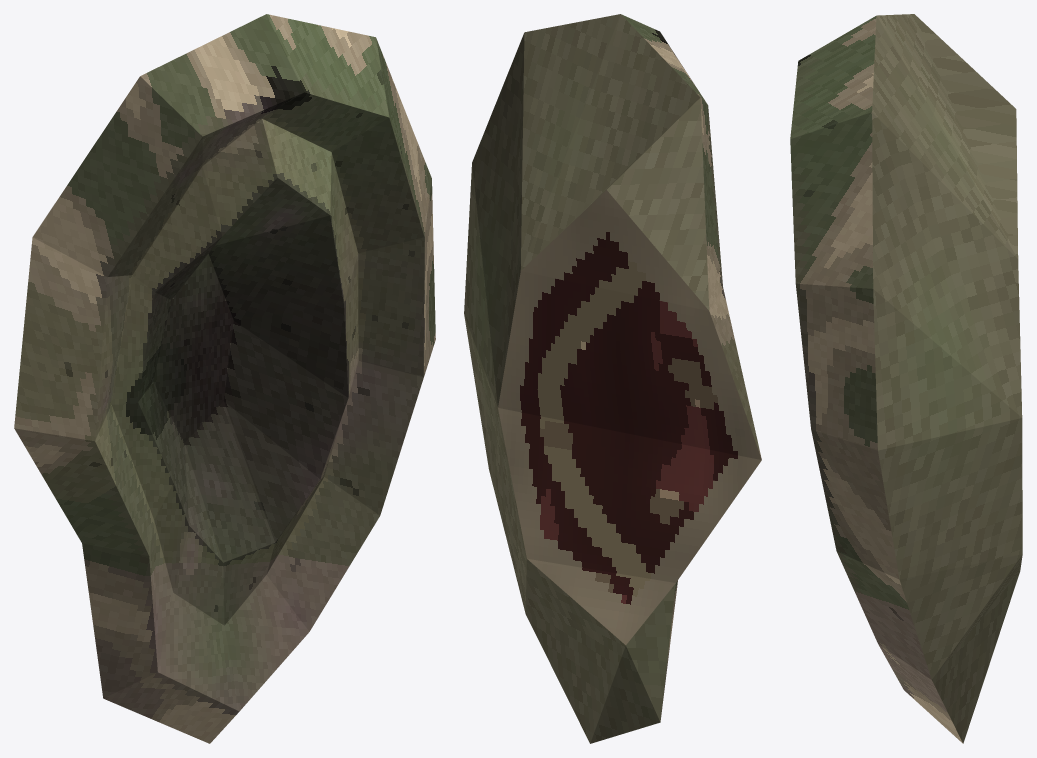
File: charm_ear_rotten.glb
3 renders of one model, left to right at view 1: azimuth 30°, elevation 25°; view 2: azimuth 150°, elevation 25°; view 3: azimuth 270°, elevation 25°, orthographic. The views are drawn at different scales.
Parts seen in each view (by area): view 1: charm_ear_rotten; view 2: charm_ear_rotten; view 3: charm_ear_rotten.
Boxes of the visible parts, x1,y1,x2,y2 form: charm_ear_rotten: (14, 14, 435, 743); charm_ear_rotten: (464, 14, 761, 743); charm_ear_rotten: (790, 14, 1022, 743).
Bounding box in the file's own units: 0.0326 × 0.0634 × 0.0182.
1 material, 1 textured.
